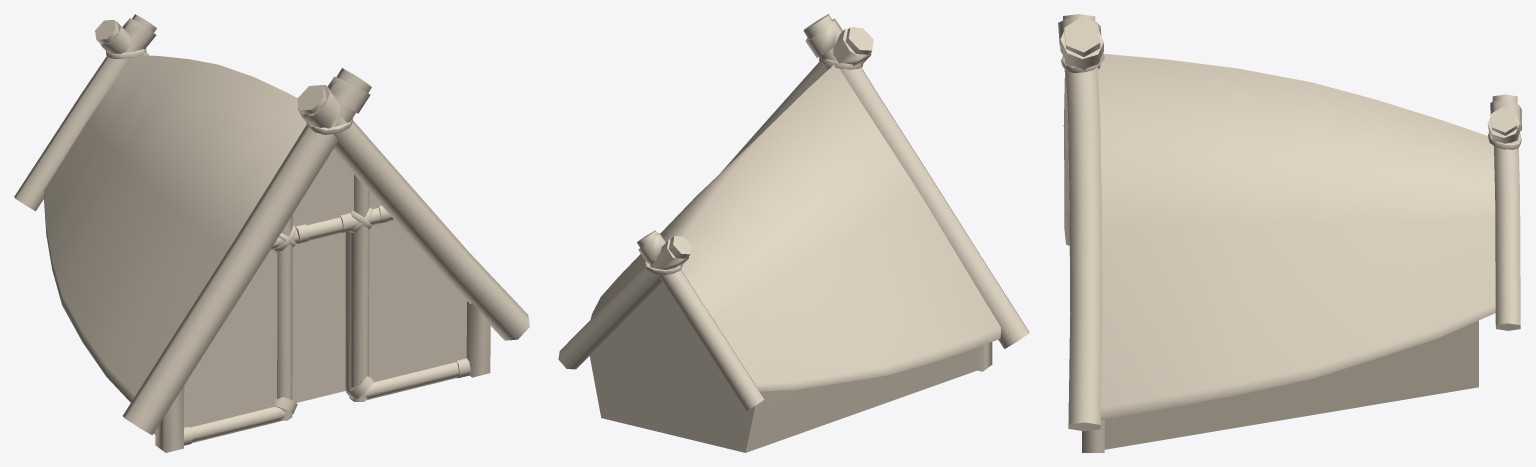
Rendered from cabin-base.glb.
The picture shows the model from 3 angles, left to right: view 1: azimuth 30°, elevation 25°; view 2: azimuth 150°, elevation 25°; view 3: azimuth 270°, elevation 25°; orthographic projection. The views are drawn at different scales.
Size of the model in its own units: 1.44 by 1.16 by 1.35.
